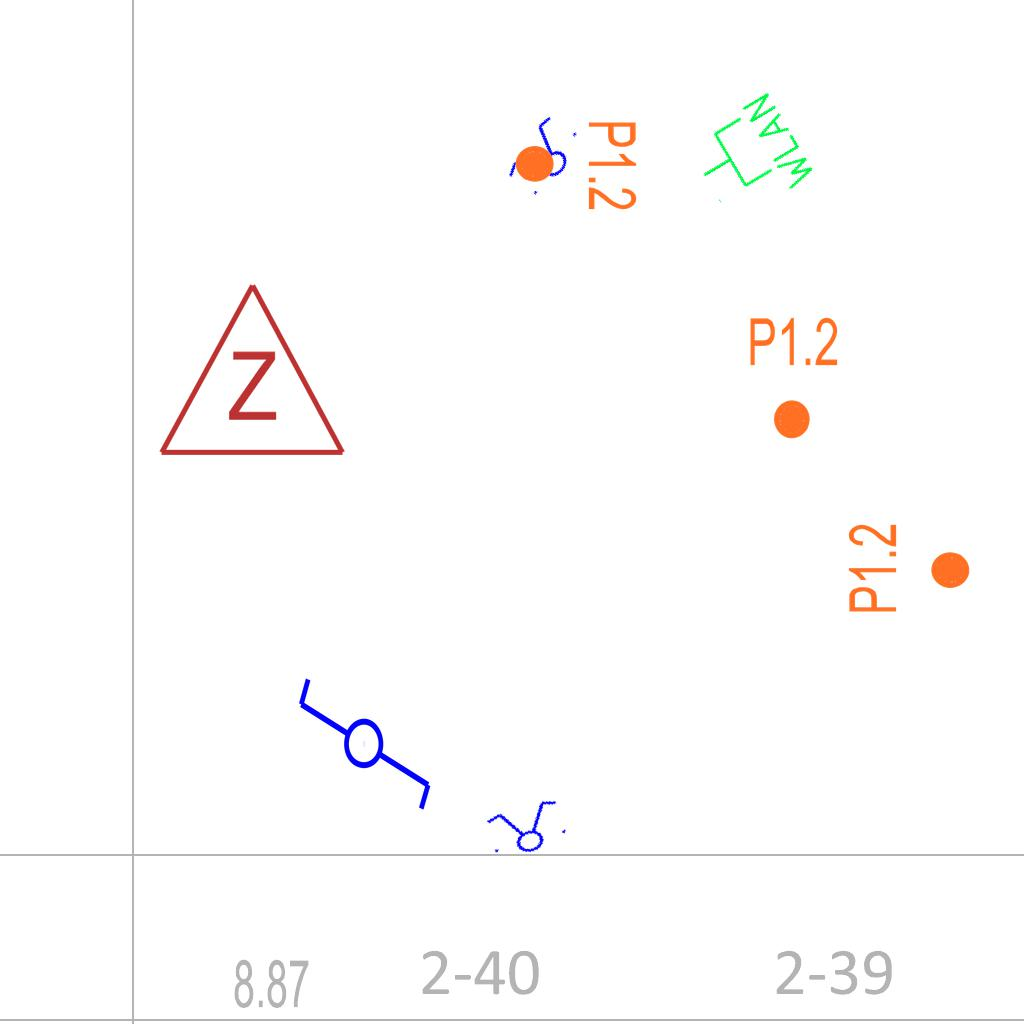Downlight_LED_Einbauleuchten_Flur: (845, 522, 973, 615), (747, 314, 840, 442), (512, 119, 640, 212)
Serienschalter: (500, 108, 588, 206), (479, 794, 573, 864)
WLAN: (679, 86, 823, 231)
Wechselschalter: (294, 657, 438, 814)
Zimmersignalleuchte: (152, 270, 348, 470)
